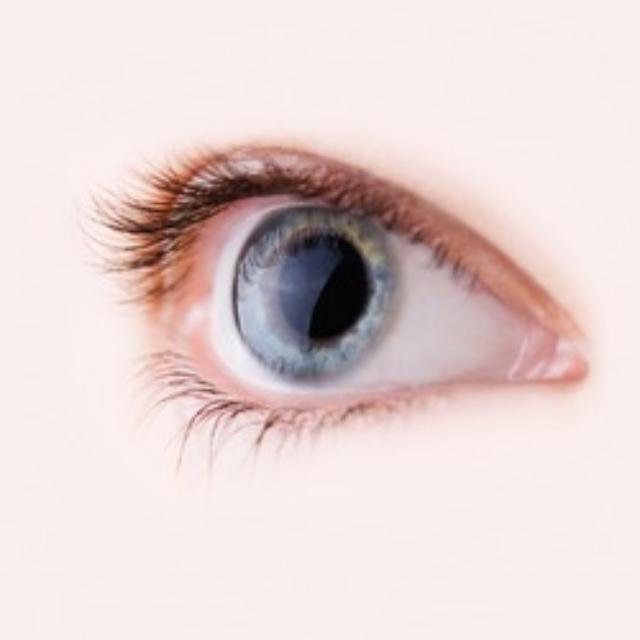eye: (236, 192, 404, 386)
